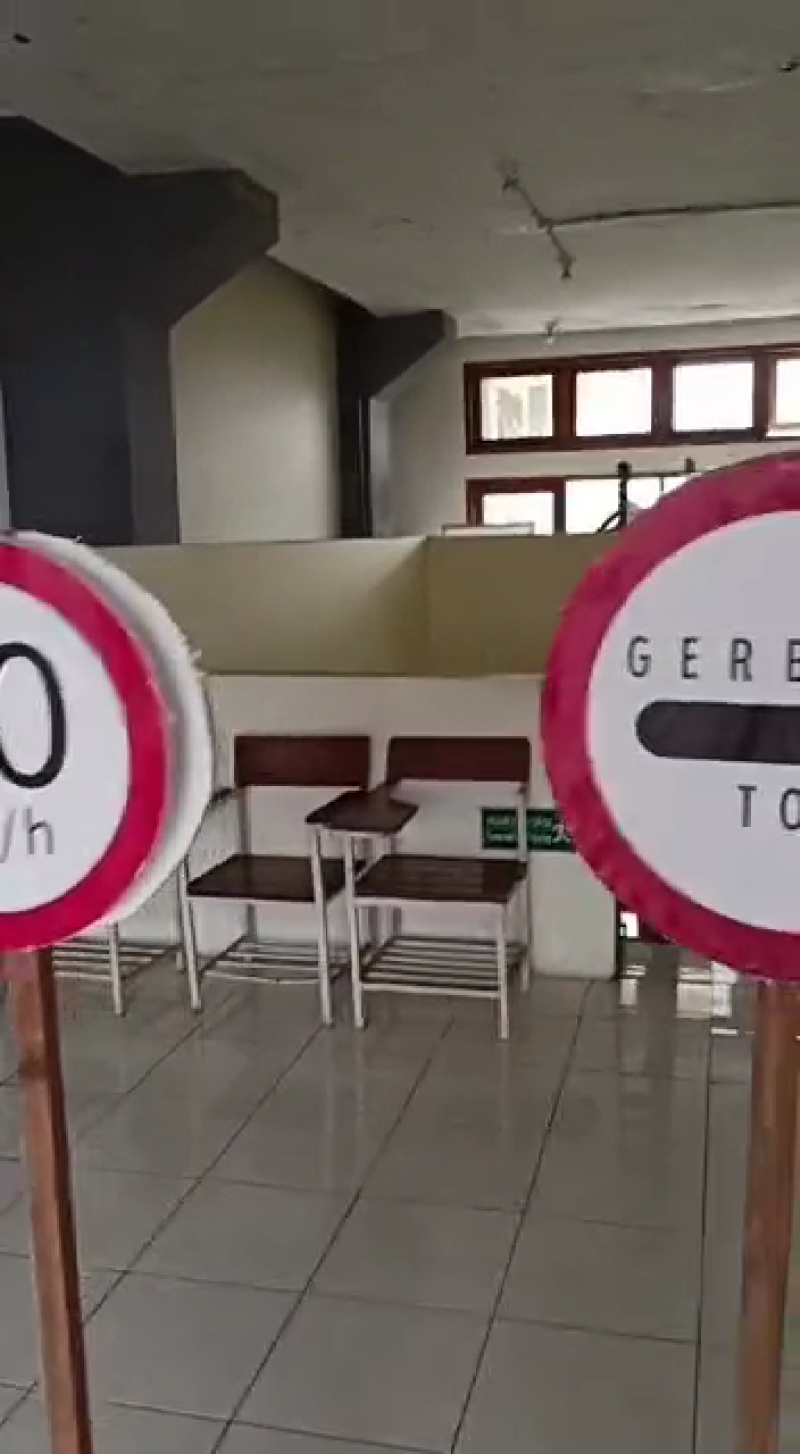gerbang tol: (498, 442, 800, 996)
